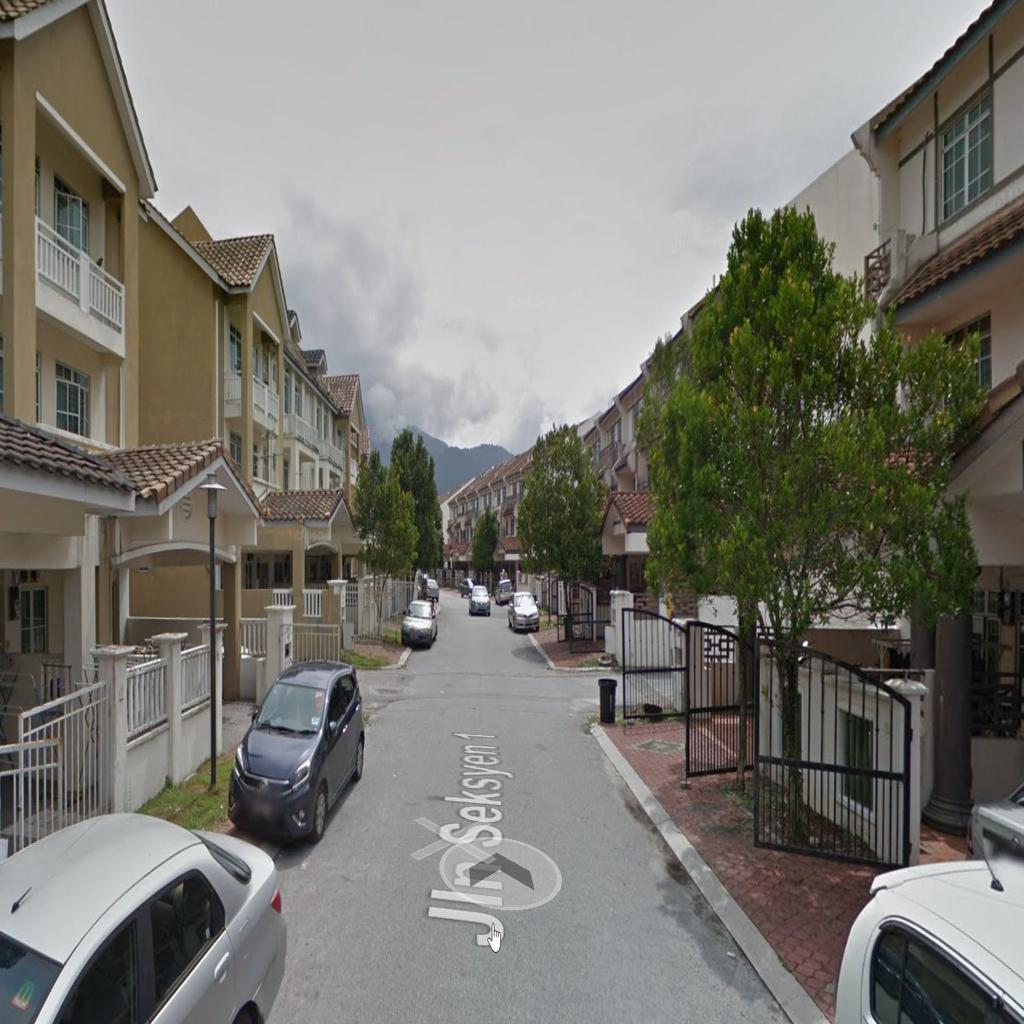Junction: (532, 640, 683, 743), (303, 634, 410, 717)
